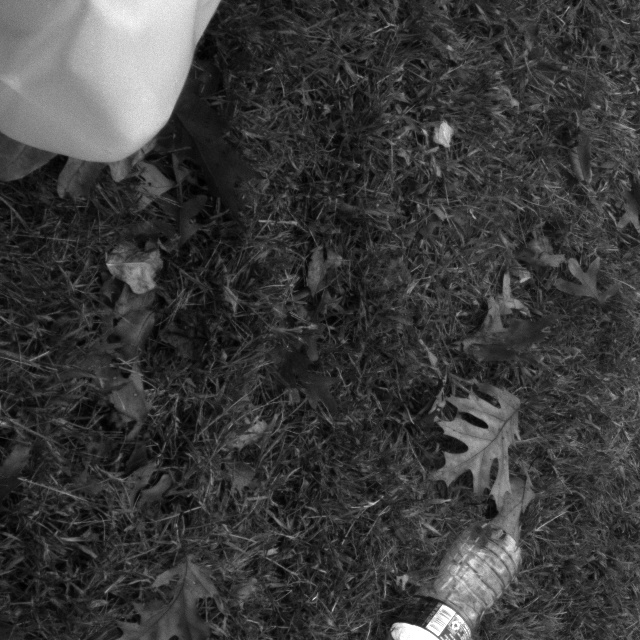bottle: (369, 514, 556, 640)
can: (0, 0, 263, 248)
